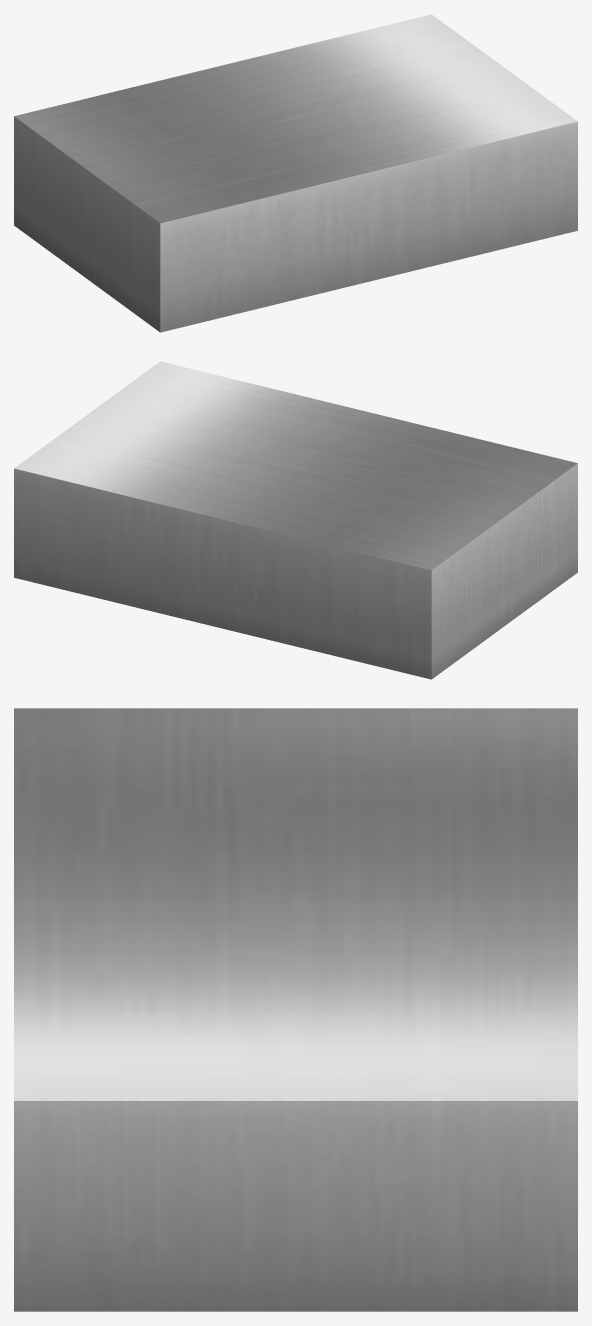
The picture shows the model from 3 angles, top to bottom: view 1: azimuth 30°, elevation 25°; view 2: azimuth 150°, elevation 25°; view 3: azimuth 270°, elevation 25°; orthographic projection. The views are drawn at different scales.
Visible parts, largest first — view 1: Cube; view 2: Cube; view 3: Cube.
Boxes of the visible parts, box(x1,y1,x2,y2) form: Cube: box(14, 14, 577, 332); Cube: box(14, 361, 577, 679); Cube: box(14, 708, 577, 1311).
Bounding box in the file's own units: 0.56 × 0.34 × 0.14.
Materials: 1 (1 with a texture image).
